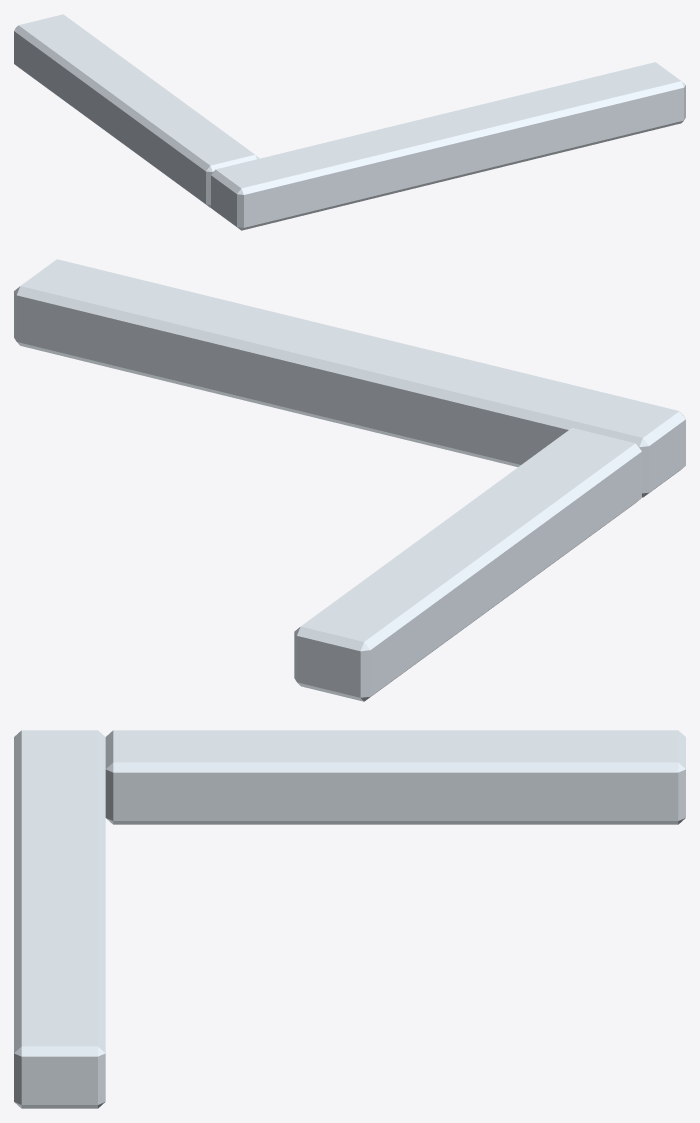
The model's file is Shore_OuterCorner_v001.fbx.
3 views of the same model, one above another, from view 1: azimuth 30°, elevation 25°; view 2: azimuth 150°, elevation 25°; view 3: azimuth 270°, elevation 25° (orthographic). The views are drawn at different scales.
Visible parts, largest first — view 1: ShoreLip, ShoreLip.001; view 2: ShoreLip, ShoreLip.001; view 3: ShoreLip.001, ShoreLip.
Part boxes in pixels (box(x1,y1,x2,y2)): ShoreLip: box(211, 62, 685, 230); ShoreLip.001: box(14, 14, 259, 207); ShoreLip: box(14, 259, 685, 497); ShoreLip.001: box(294, 428, 641, 701); ShoreLip.001: box(105, 730, 685, 824); ShoreLip: box(14, 730, 105, 1108).
Bounding box in the file's own units: 100 × 9 × 88.
